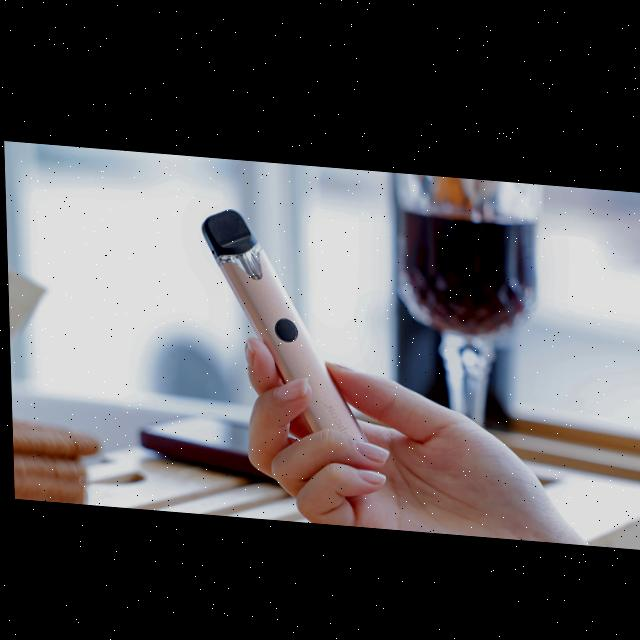vape: (199, 201, 365, 446)
